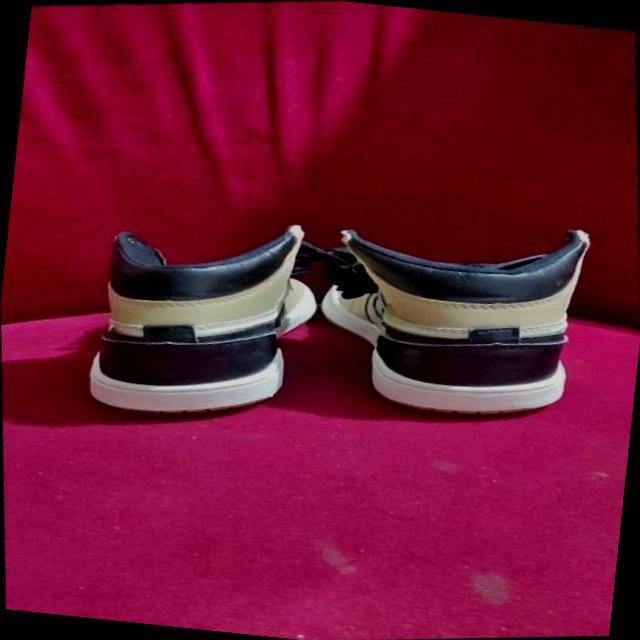nike_fake_jordan: (313, 192, 616, 446), (65, 192, 348, 443)
